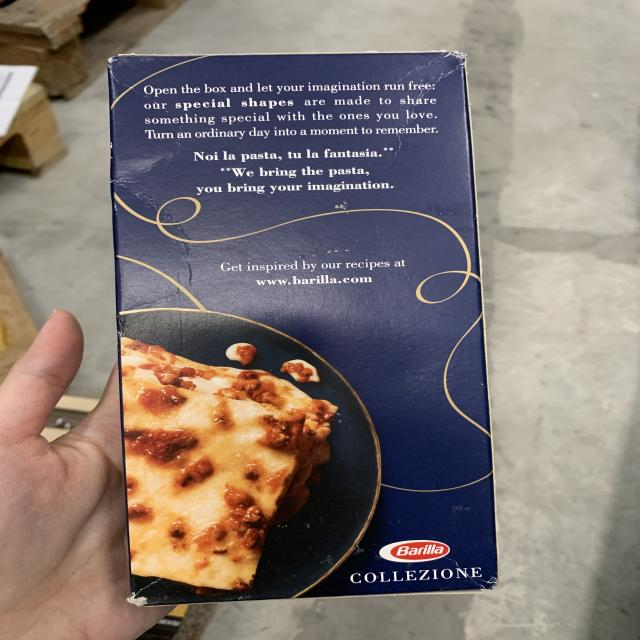object_name: (113, 58, 491, 596)
